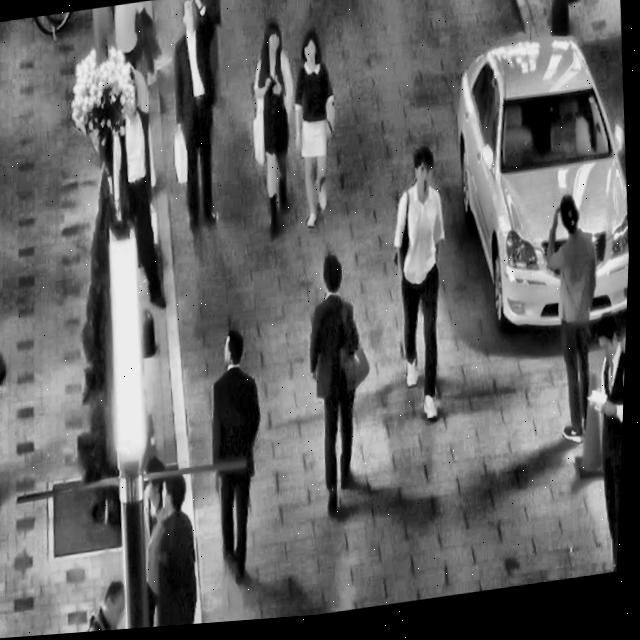light_vehicle: (439, 15, 638, 361)
